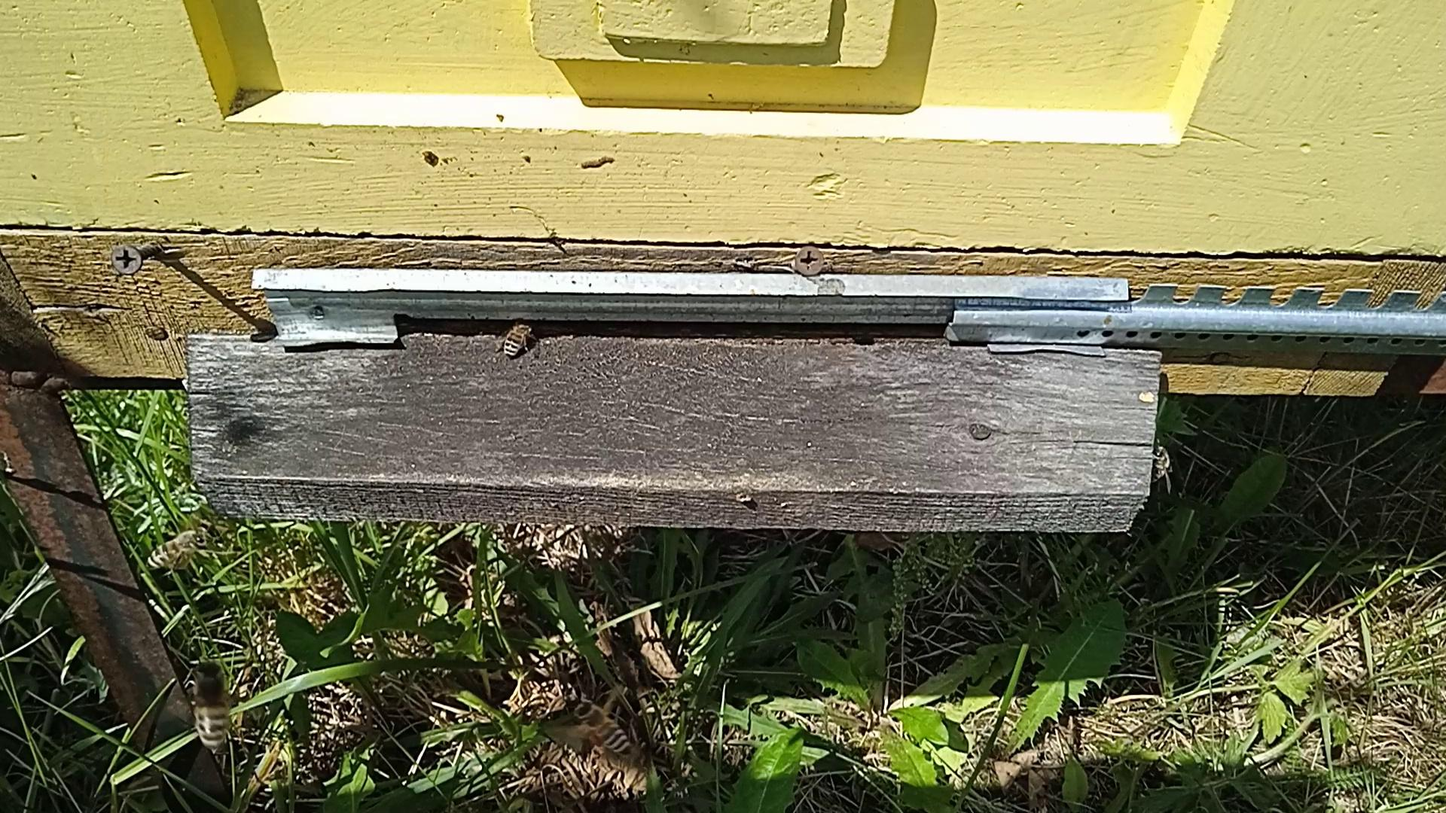worker-bee: (189, 660, 233, 753), (568, 700, 630, 754), (148, 528, 210, 571), (499, 319, 536, 358), (1150, 445, 1173, 483)
